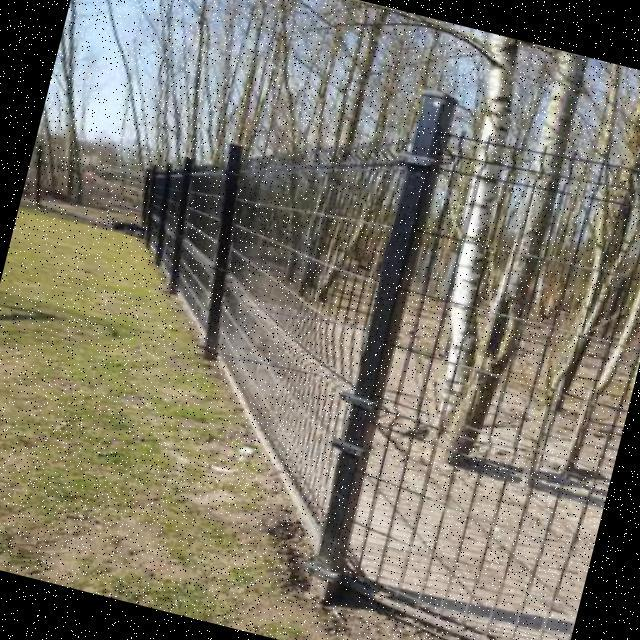fence line: (39, 82, 521, 613), (243, 97, 639, 639)
